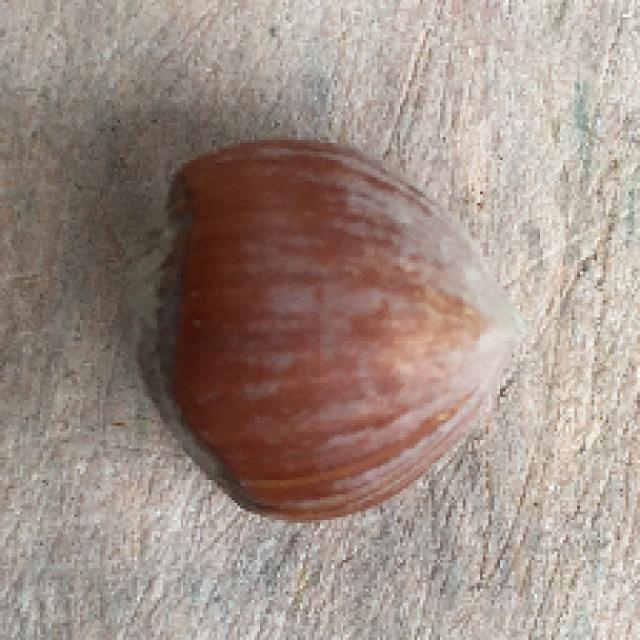qualityHazelnut: (123, 137, 529, 529)
